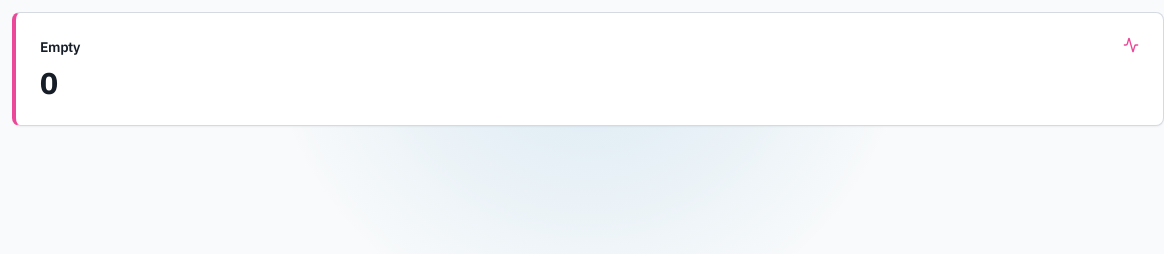
Test case: AccentKpiCard drilldown › navigates even when value is zero (per project decision)
Click the button "Empty 0".
click(60, 47)  # box [12,12,1163,126]
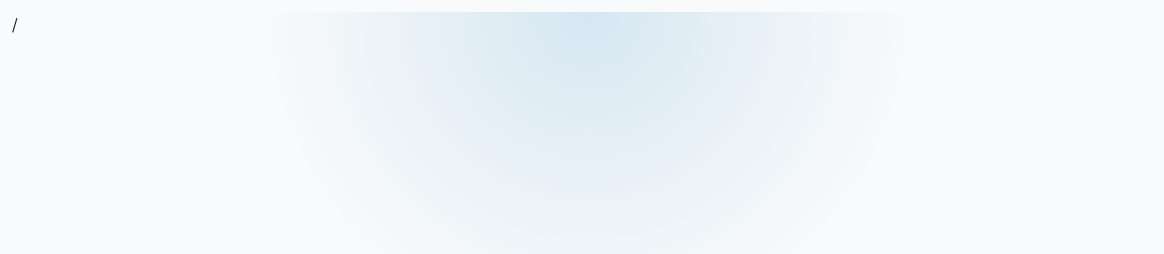
Result: the button "Empty" is gone
